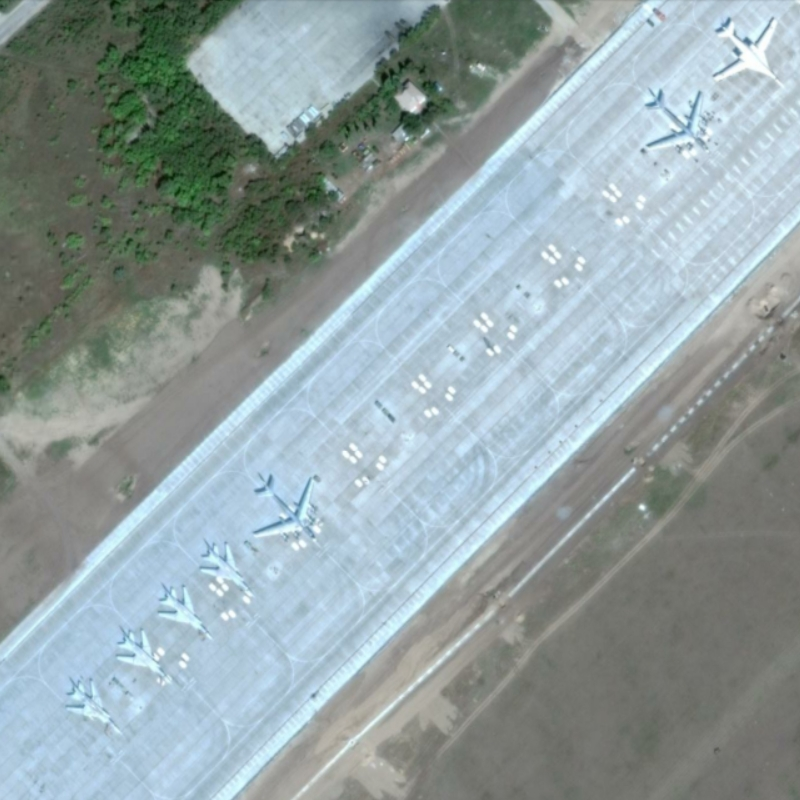A12: (62, 675, 127, 739), (151, 582, 216, 644), (114, 626, 175, 690), (196, 540, 258, 601)
A17: (247, 471, 325, 546), (640, 86, 714, 158)
A6: (709, 14, 789, 92)
